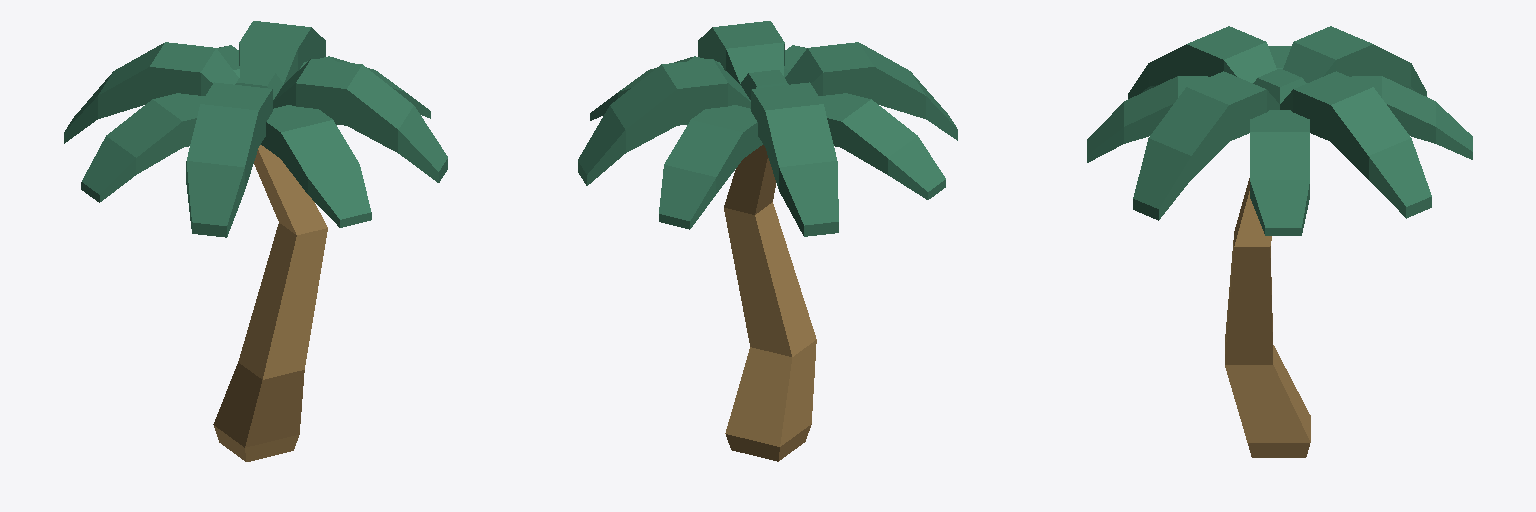
File: palm_2.obj
3 renders of one model, left to right at view 1: azimuth 30°, elevation 25°; view 2: azimuth 150°, elevation 25°; view 3: azimuth 270°, elevation 25°, orthographic.
Visible parts, largest first — view 1: Mesh2_Group3_Group1_Model.002, Mesh1_Group2_Group1_Model.002; view 2: Mesh2_Group3_Group1_Model.002, Mesh1_Group2_Group1_Model.002; view 3: Mesh2_Group3_Group1_Model.002, Mesh1_Group2_Group1_Model.002.
Boxes of the visible parts, box(x1,y1,x2,y2) form: Mesh2_Group3_Group1_Model.002: box(64, 21, 447, 237); Mesh1_Group2_Group1_Model.002: box(213, 145, 327, 461); Mesh2_Group3_Group1_Model.002: box(578, 21, 957, 236); Mesh1_Group2_Group1_Model.002: box(724, 145, 816, 461); Mesh2_Group3_Group1_Model.002: box(1087, 26, 1472, 235); Mesh1_Group2_Group1_Model.002: box(1225, 178, 1310, 457).
Bounding box in the file's own units: 3.09 × 3.36 × 3.09.